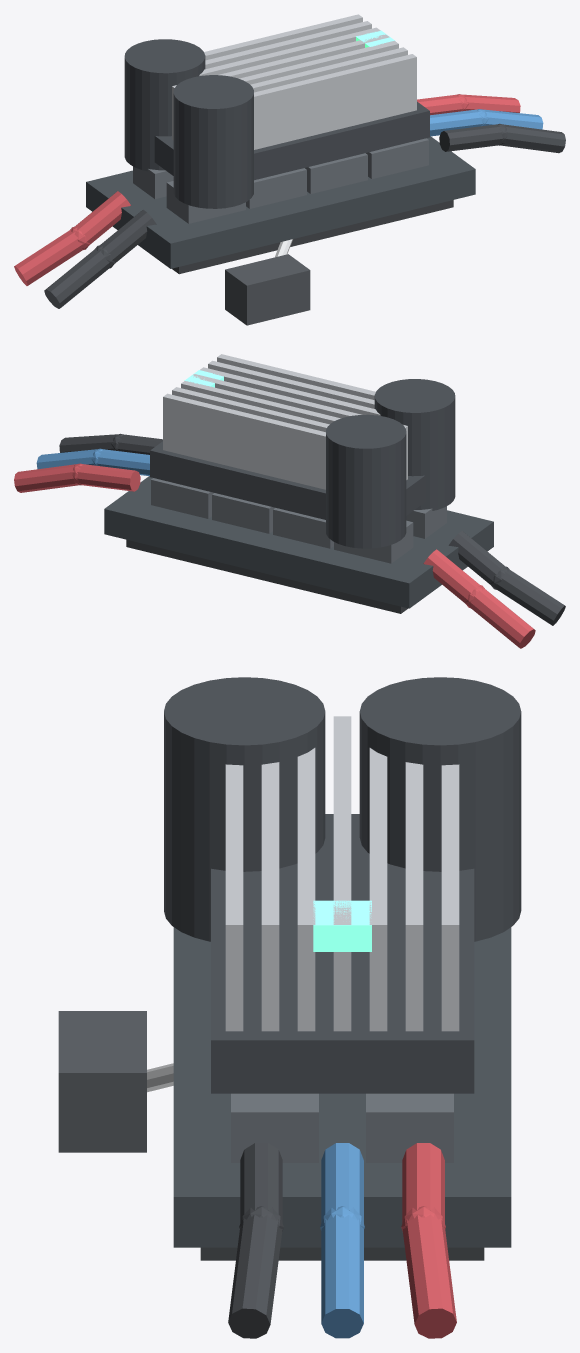
Rendered from esc_30a.glb.
3 views of the same model, one above another, from view 1: azimuth 30°, elevation 25°; view 2: azimuth 150°, elevation 25°; view 3: azimuth 270°, elevation 25° (orthographic). The views are drawn at different scales.
Visible parts, largest first — view 1: pcb, cap_2, fin_6, cap_1, heatsink_base, servo_plug, bottom_pad, power_wire_1/seg_1, mosfet_2_1, mosfet_3_1, power_wire_0/seg_1, mosfet_1_1 (+16 smaller); view 2: pcb, cap_1, fin_0, cap_2, heatsink_base, bottom_pad, power_wire_0/seg_1, mosfet_2_0, mosfet_3_0, power_wire_1/seg_1, mosfet_1_0, fin_5 (+15 smaller); view 3: pcb, heatsink_base, cap_1, cap_2, servo_plug, mosfet_3_1, mosfet_3_0, fin_3, fin_4, fin_2, fin_1, fin_5 (+10 smaller).
Boxes of the visible parts, left/top/right/bottom form: pcb: left=86, top=136, right=475, bottom=268; cap_2: left=173, top=75, right=253, bottom=208; fin_6: left=254, top=54, right=416, bottom=149; cap_1: left=124, top=39, right=205, bottom=171; heatsink_base: left=154, top=101, right=429, bottom=180; servo_plug: left=225, top=254, right=310, bottom=325; bottom_pad: left=172, top=200, right=453, bottom=274; power_wire_1/seg_1: left=44, top=248, right=111, bottom=308; mosfet_2_1: left=305, top=153, right=367, bottom=193; mosfet_3_1: left=366, top=138, right=428, bottom=178; power_wire_0/seg_1: left=14, top=229, right=83, bottom=285; mosfet_1_1: left=246, top=168, right=306, bottom=208; pcb: left=104, top=476, right=493, bottom=608; cap_1: left=326, top=414, right=406, bottom=548; fin_0: left=163, top=393, right=325, bottom=489; cap_2: left=374, top=379, right=455, bottom=510; heatsink_base: left=150, top=441, right=425, bottom=519; bottom_pad: left=126, top=539, right=407, bottom=613; power_wire_0/seg_1: left=467, top=588, right=535, bottom=648; mosfet_2_0: left=212, top=493, right=274, bottom=533; mosfet_3_0: left=151, top=478, right=213, bottom=518; power_wire_1/seg_1: left=496, top=568, right=565, bottom=625; mosfet_1_0: left=273, top=508, right=333, bottom=548; fin_5: left=208, top=360, right=374, bottom=408; pcb: left=173, top=927, right=511, bottom=1247; heatsink_base: left=211, top=814, right=474, bottom=1093; cap_1: left=359, top=677, right=521, bottom=941; cap_2: left=164, top=677, right=325, bottom=941; servo_plug: left=58, top=1011, right=146, bottom=1152; mosfet_3_1: left=231, top=1093, right=318, bottom=1162; mosfet_3_0: left=366, top=1093, right=453, bottom=1162; fin_3: left=333, top=716, right=351, bottom=1031; fin_4: left=297, top=748, right=315, bottom=1031; fin_2: left=369, top=748, right=387, bottom=1031; fin_1: left=405, top=762, right=423, bottom=1031; fin_5: left=261, top=762, right=279, bottom=1031.
Bounding box in the file's own units: 0.0799 × 0.0295 × 0.0315.
